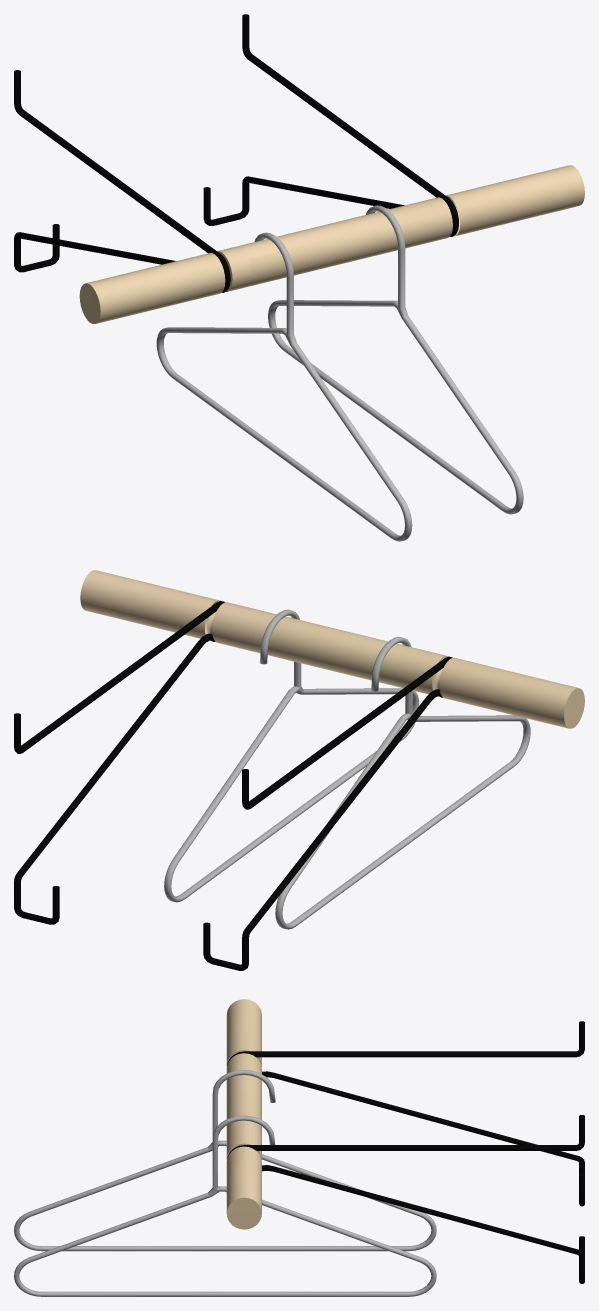
The model's file is wardrobe40_with_hanger.glb.
3 renders of one model, top to bottom at view 1: azimuth 30°, elevation 25°; view 2: azimuth 150°, elevation 25°; view 3: azimuth 270°, elevation 25°, orthographic. The views are drawn at different scales.
Visible parts, largest first — view 1: Geom3D (×5); view 2: Geom3D (×5); view 3: Geom3D (×5).
Boxes of the visible parts, left/top/right/bottom form: Geom3D (×5): left=14, top=14, right=584, bottom=541; Geom3D (×5): left=14, top=570, right=584, bottom=970; Geom3D (×5): left=14, top=999, right=584, bottom=1296.
Size of the model in its own units: 0.4 by 0.1933 by 0.4861.
Materials: 3 (2 with a texture image).
